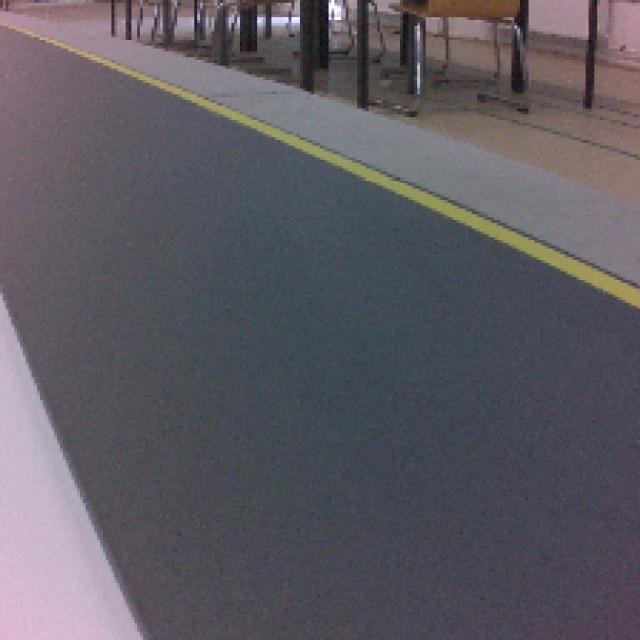Road: (68, 219, 570, 640)
